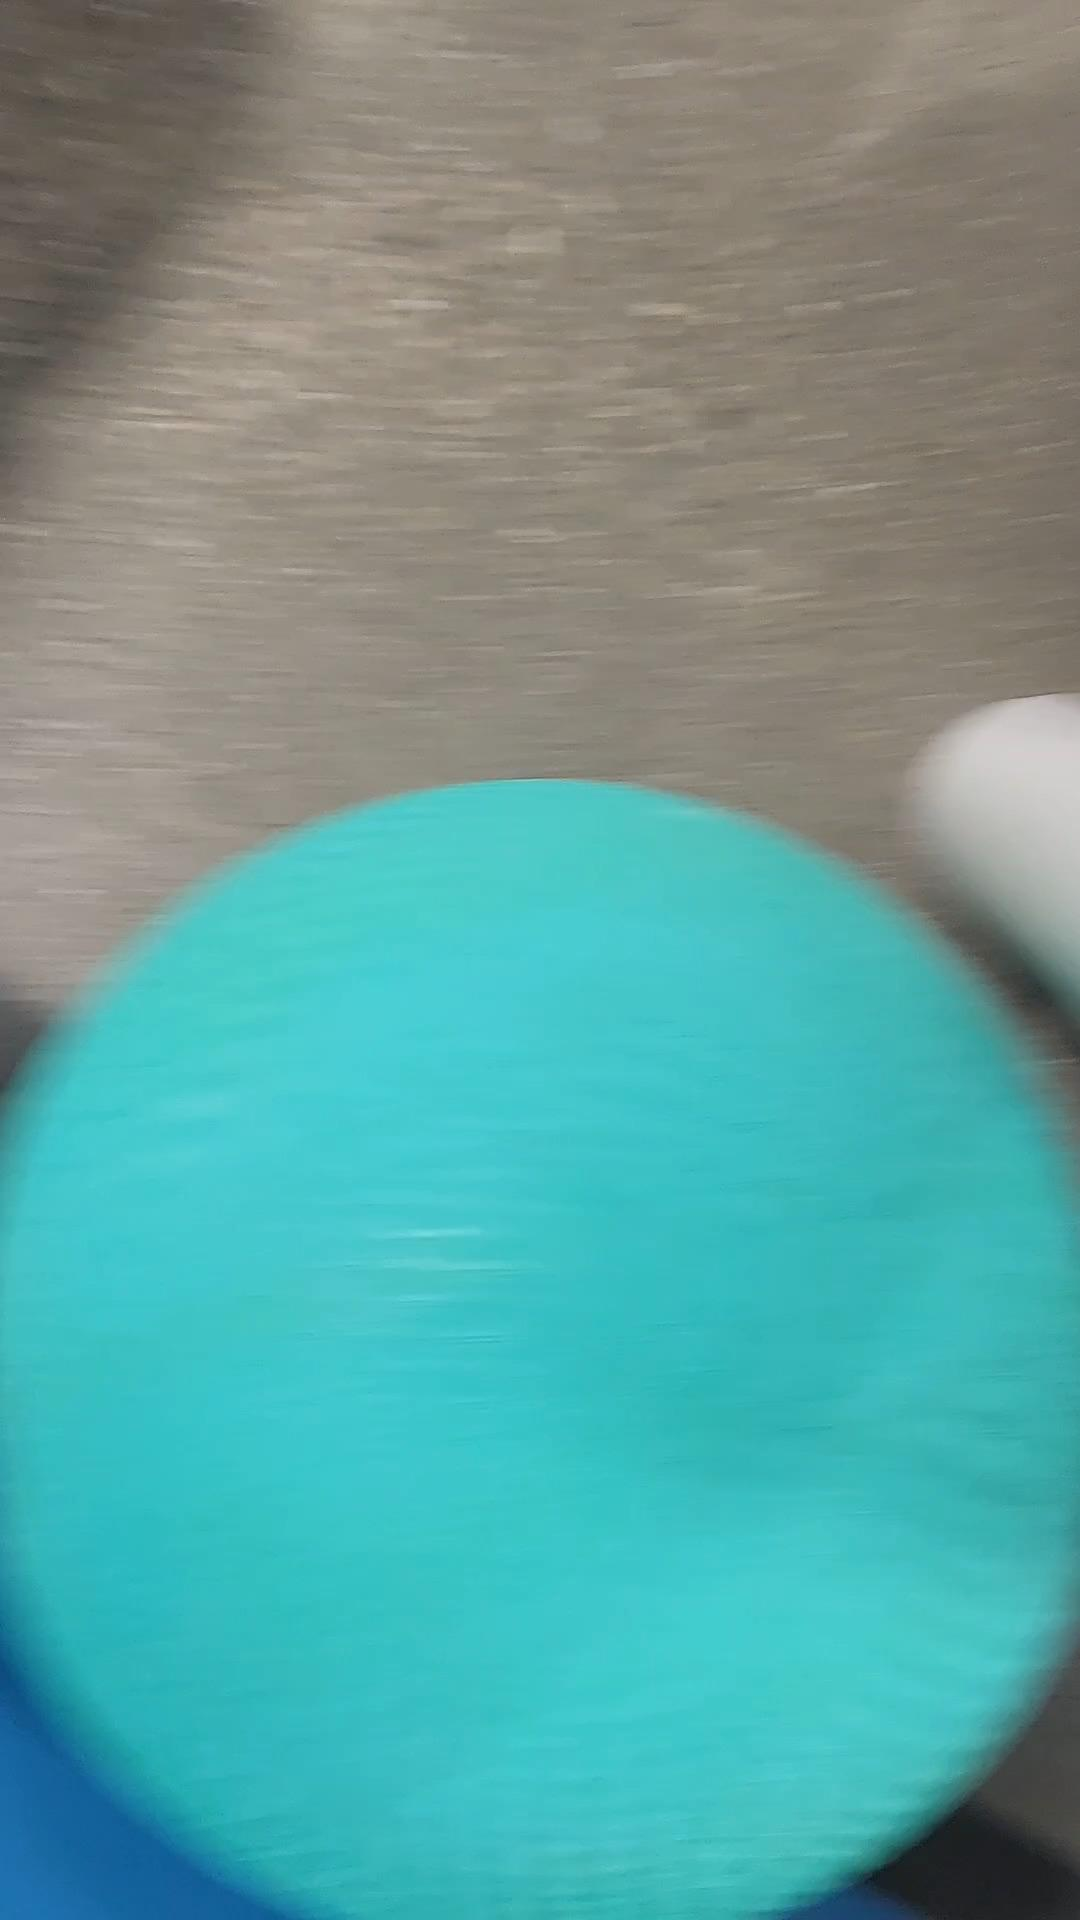algae: (0, 778, 1080, 1920)
